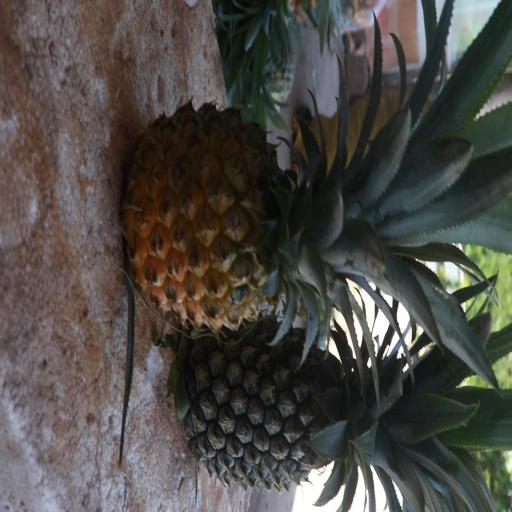Pineapple - v8 v1: (124, 94, 448, 328)
